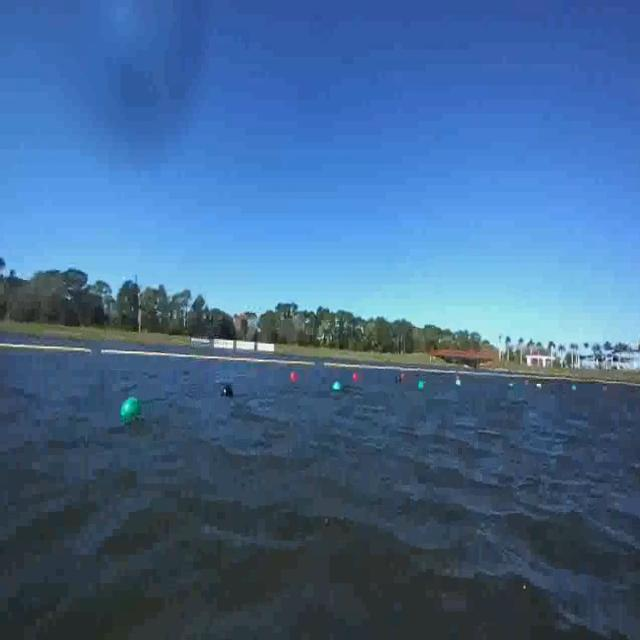black-buoy: (222, 386, 231, 398), (394, 374, 402, 386)
green-buoy: (122, 399, 143, 426), (334, 382, 343, 393), (418, 380, 425, 391)
red-buoy: (290, 371, 297, 382), (353, 374, 359, 383)
